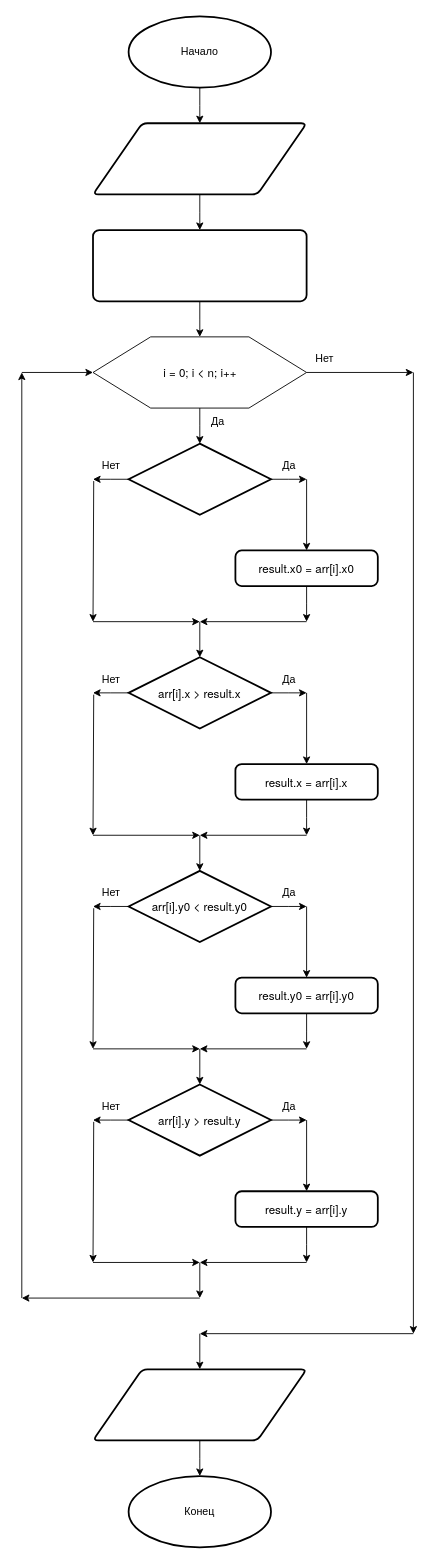
Image size: 436x1563. Some labels were removed from this diagram. Here are the shapes that lost their labels. From the top down, the centre of each, then its label:
At point (199, 158): "Ввод: struct rectangle *arr, int n".
At point (199, 265): "result = {1e9, -1e9, 1e9, -1e9}".
At point (199, 478): "arr[i].x0 < result.x0".
At point (199, 1404): "Вывод: result".
